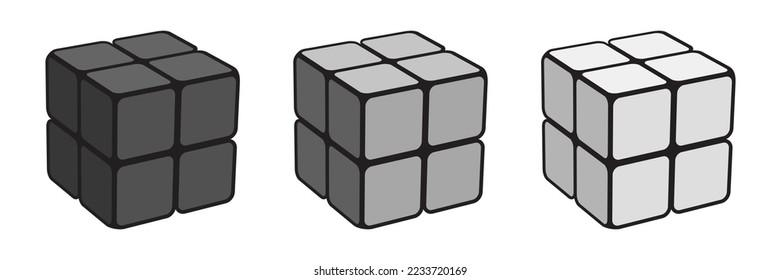cubos: (286, 19, 496, 240), (533, 26, 745, 237), (36, 26, 247, 234)
